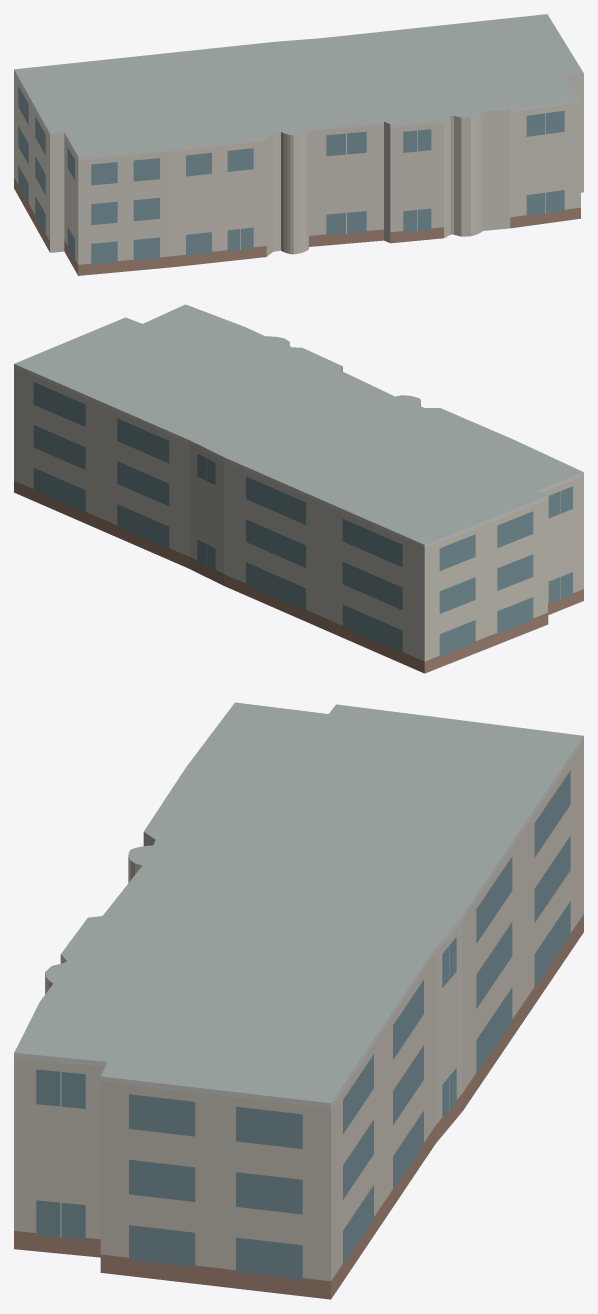
The model's file is survey-upis-32897330.glb.
3 renders of one model, top to bottom at view 1: azimuth 30°, elevation 25°; view 2: azimuth 150°, elevation 25°; view 3: azimuth 270°, elevation 25°, orthographic. The views are drawn at different scales.
Visible parts, largest first — view 1: survey-upis-32897330.tmp; view 2: survey-upis-32897330.tmp; view 3: survey-upis-32897330.tmp.
Part boxes in pixels (<box>): survey-upis-32897330.tmp: <box>14,14,583,275</box>; survey-upis-32897330.tmp: <box>14,304,583,673</box>; survey-upis-32897330.tmp: <box>14,702,583,1299</box>.
Size of the model in its own units: 40.08 by 9.15 by 24.08.
